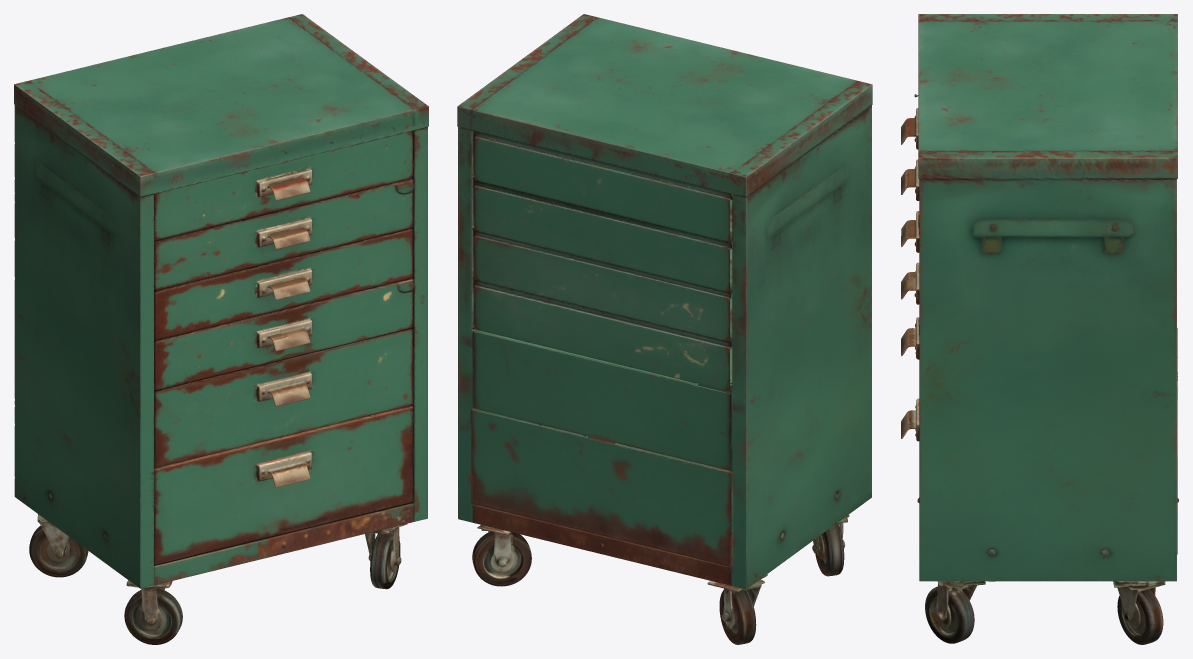
Rendered from Overturned_battered_factory_tool_cabinet.glb.
3 views of the same model, side by side, from view 1: azimuth 30°, elevation 25°; view 2: azimuth 150°, elevation 25°; view 3: azimuth 270°, elevation 25° (orthographic). The views are drawn at different scales.
Size of the model in its own units: 1.19 by 1.9 by 0.9631.
Materials: 1 (1 with a texture image).
